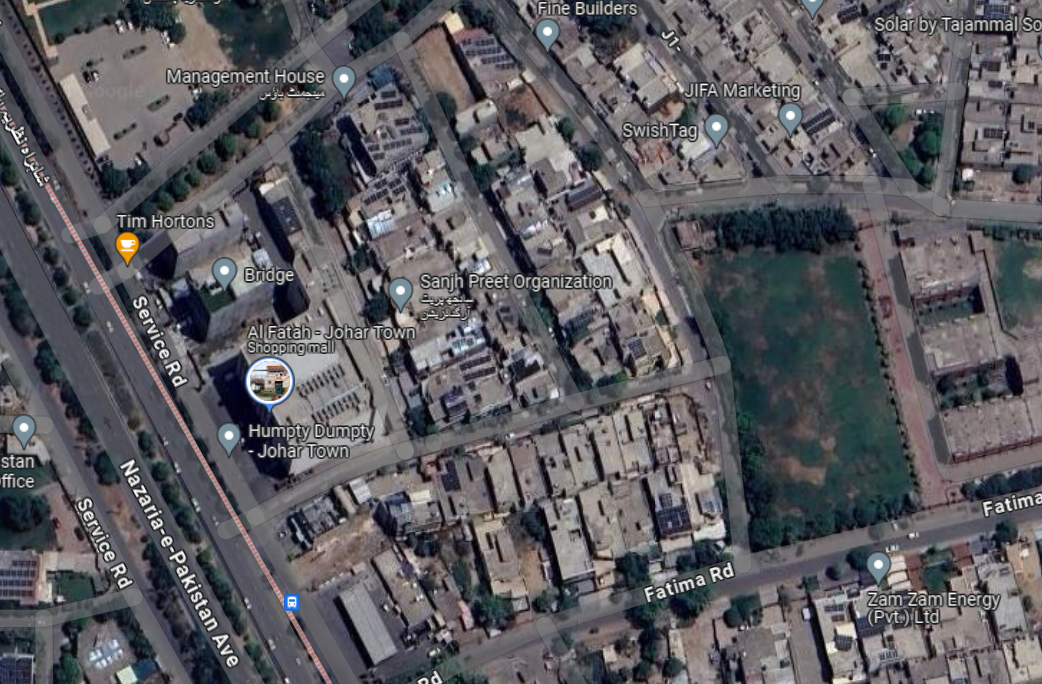solar-panel: (358, 94, 422, 160), (458, 26, 518, 72), (1, 548, 36, 601), (652, 488, 691, 535), (1, 651, 34, 684), (274, 200, 305, 234), (459, 355, 500, 380), (860, 612, 898, 636), (441, 460, 468, 493), (566, 312, 605, 332), (829, 6, 864, 26), (438, 388, 463, 411), (631, 337, 652, 360), (828, 599, 848, 621), (988, 3, 1013, 14), (838, 638, 855, 653)
